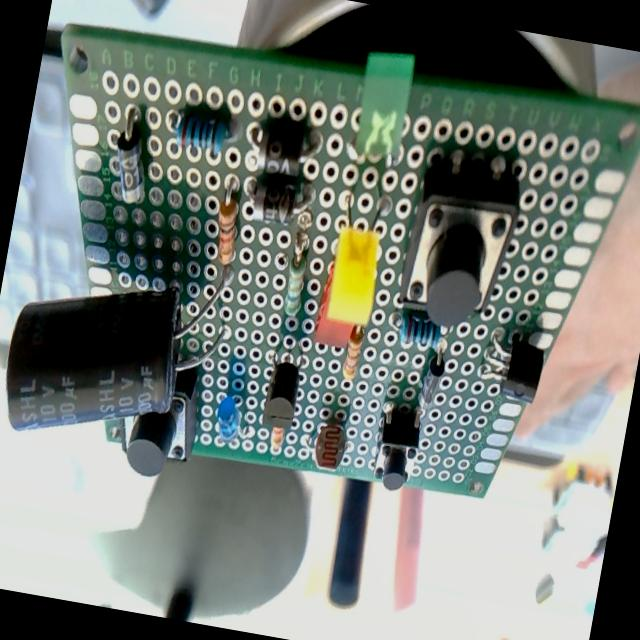cds: (311, 420, 349, 472)
